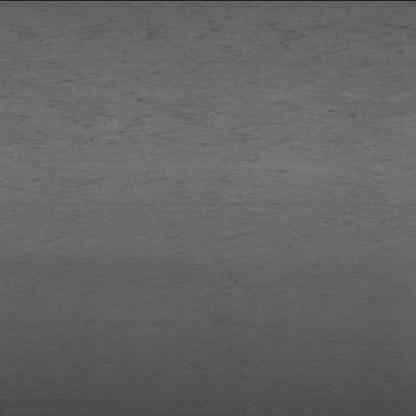silk_spot: (15, 15, 390, 246)
